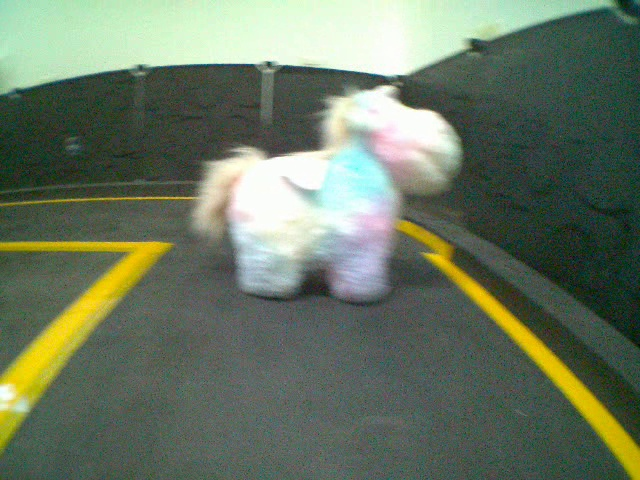unicorn: (191, 84, 463, 308)
